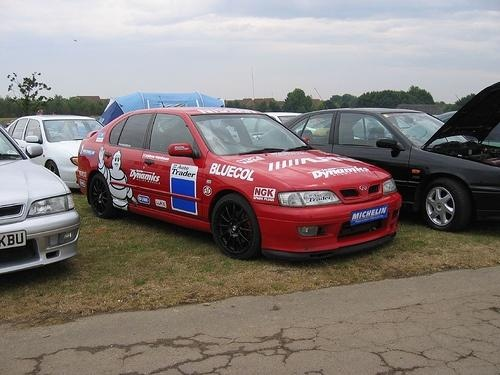car: (78, 109, 401, 262), (283, 82, 499, 233), (1, 126, 79, 278), (8, 116, 105, 190)
